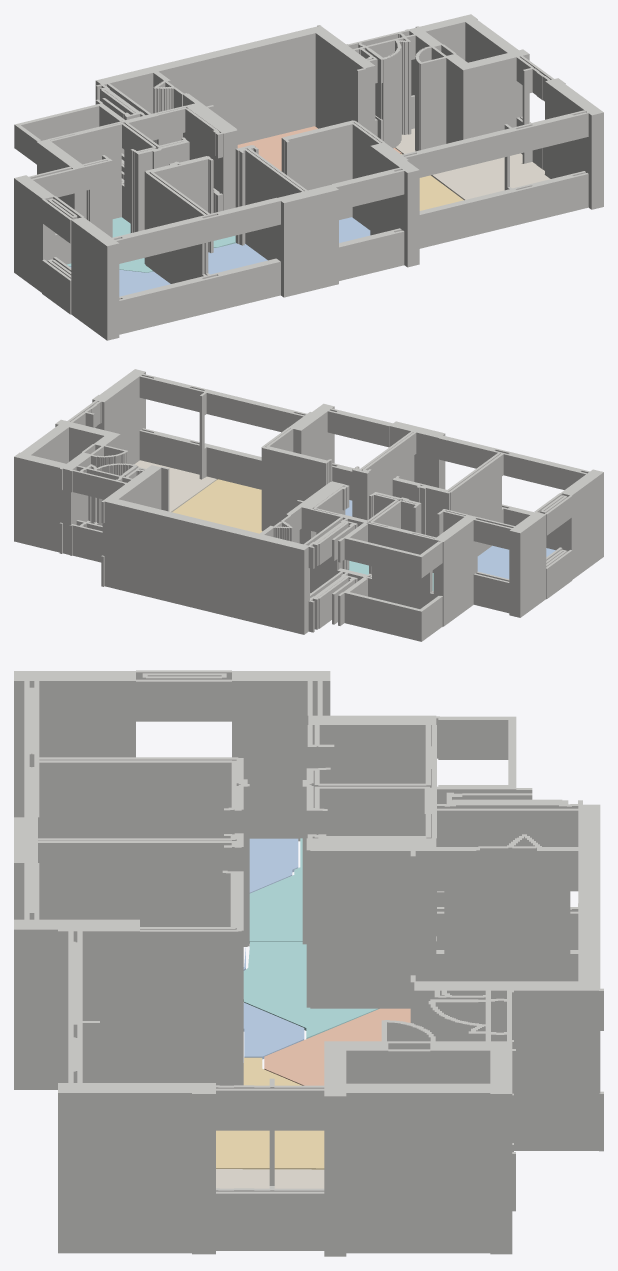
The picture shows the model from 3 angles, top to bottom: view 1: azimuth 30°, elevation 25°; view 2: azimuth 150°, elevation 25°; view 3: azimuth 270°, elevation 25°; orthographic projection. The views are drawn at different scales.
Visible parts, largest first — view 1: walls, room:other:8, room:bedroom:10, room:living:6, room:bedroom:7, room:kitchen:0, room:bath:3, room:bedroom:9; view 2: walls, room:living:6, room:other:8, room:bedroom:7; view 3: walls, room:bath:5, room:living:6, room:kitchen:0, room:bath:3, room:bedroom:9, room:bedroom:7, room:other:8.
Part boxes in pixels (x1,y1,x2,y2): walls: (14,14,603,340); room:other:8: (395,128,550,200); room:bedroom:10: (208,243,267,274); room:living:6: (401,154,463,210); room:bedroom:7: (69,266,170,296); room:kitchen:0: (237,126,401,170); room:bath:3: (67,217,152,272); room:bedroom:9: (339,217,370,242); walls: (14,369,603,641); room:living:6: (172,479,262,533); room:other:8: (134,460,216,512); room:bedroom:7: (477,545,555,578); walls: (14,670,603,1256); room:bath:5: (243,941,377,1038); room:living:6: (216,1057,324,1169); room:kitchen:0: (264,1008,410,1085); room:bath:3: (249,838,302,943); room:bedroom:9: (243,1002,304,1059); room:bedroom:7: (249,838,298,893); room:other:8: (216,1169,324,1188).
Bounding box in the file's own units: 15.97 × 2.8 × 9.34.
